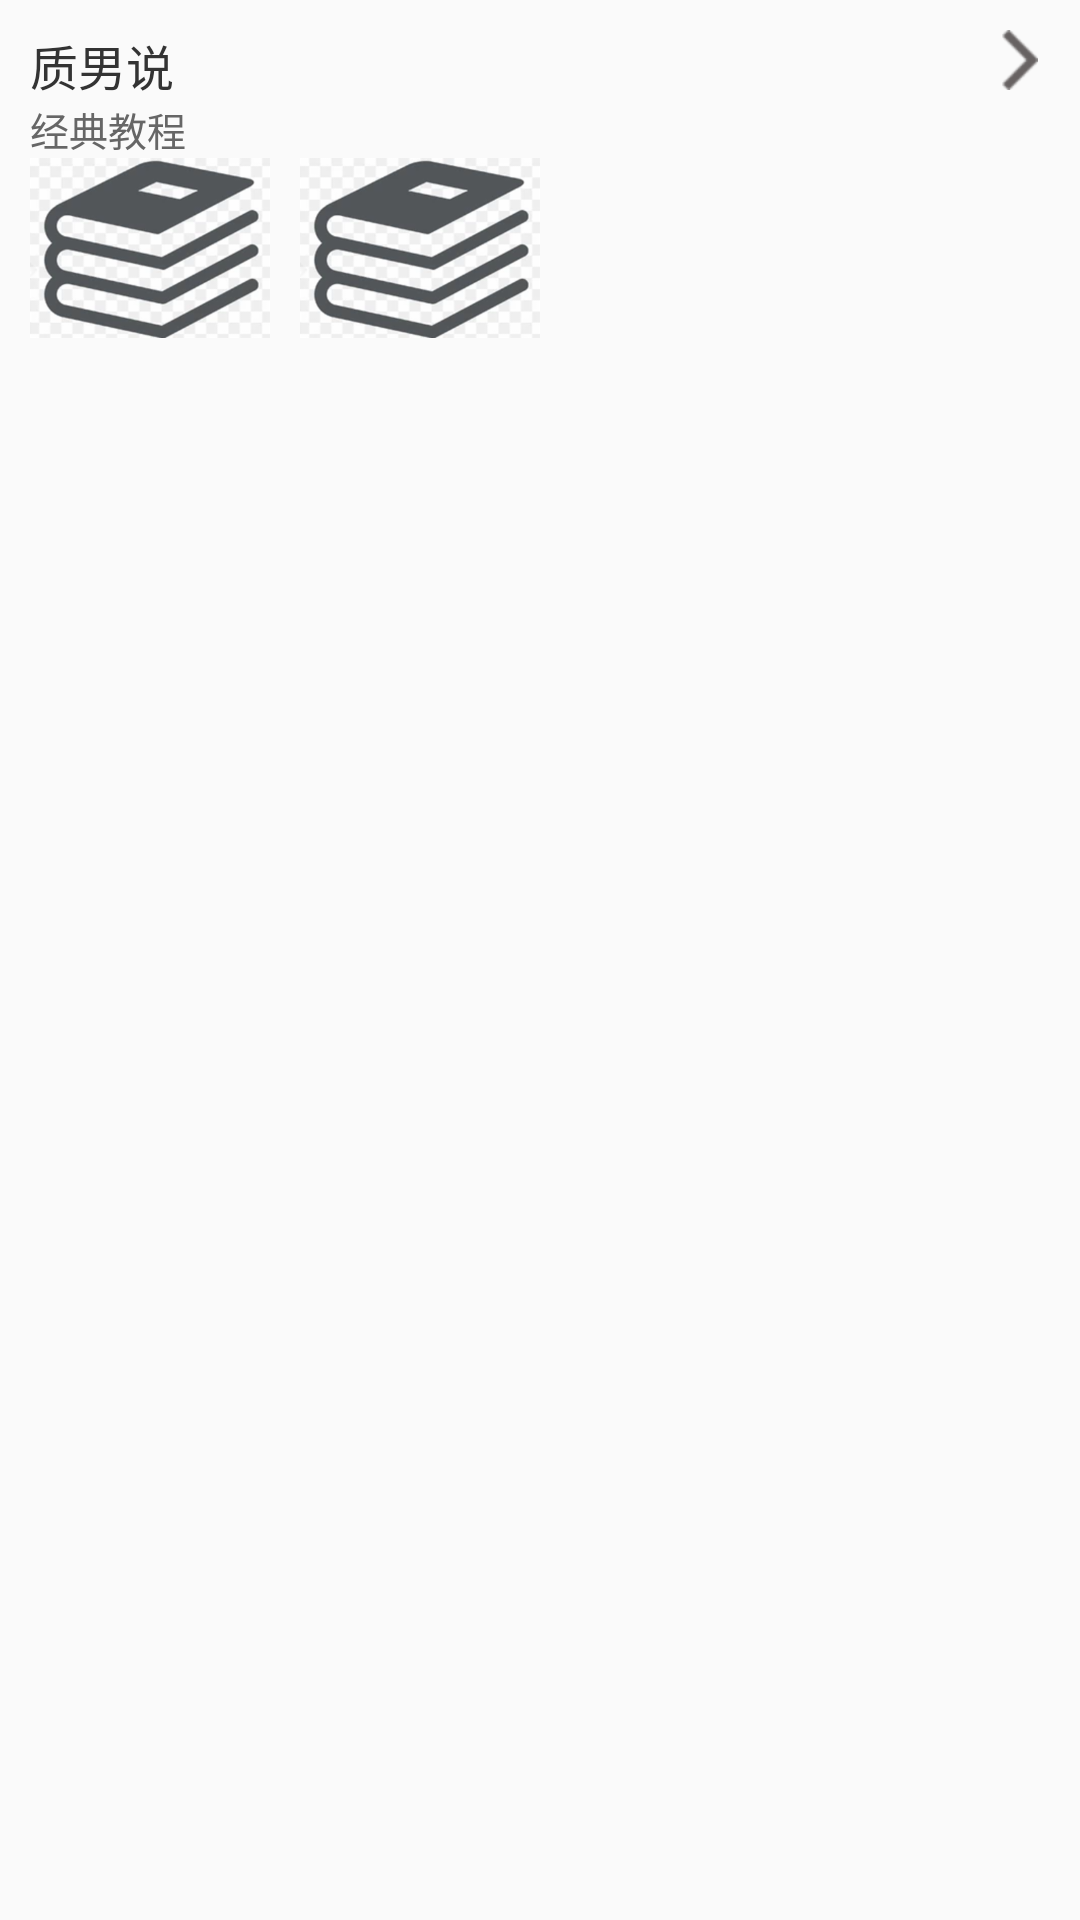

Locate icon controls on the screen. Image size 1080px x 1920px, boxes as bbox=(x1, y1, x2, y2).
book: bbox=(30, 158, 270, 338), bbox=(300, 158, 540, 338)
